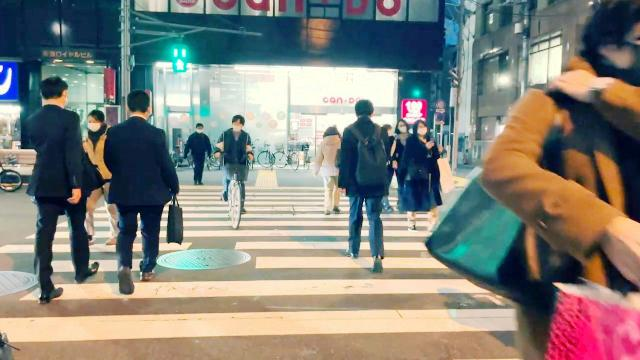berjalan: (468, 4, 640, 360), (19, 77, 100, 304), (106, 92, 184, 296), (337, 102, 401, 270), (312, 121, 348, 215)
